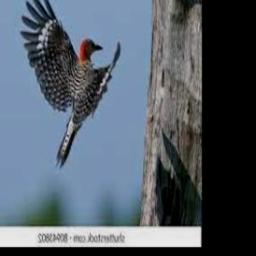Woodpecker: (20, 0, 121, 168)
